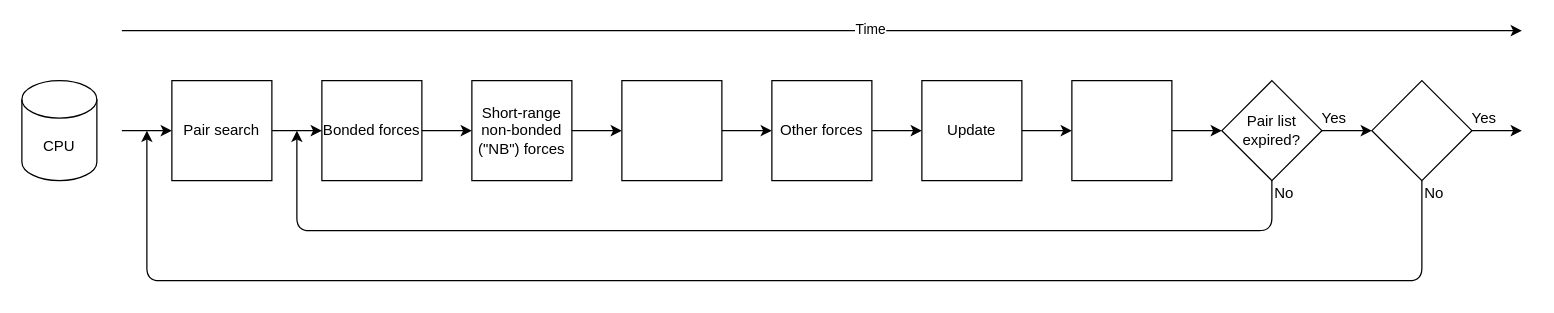
Image size: 1554x313. Some labels were removed from this diagram. Here are the shapes that lost their labels. From the top down, the centre of each, then its label:
point 671,130: Long-range non-bonded ("PME") forces
point 1121,130: Constraints
point 1421,130: Done?
